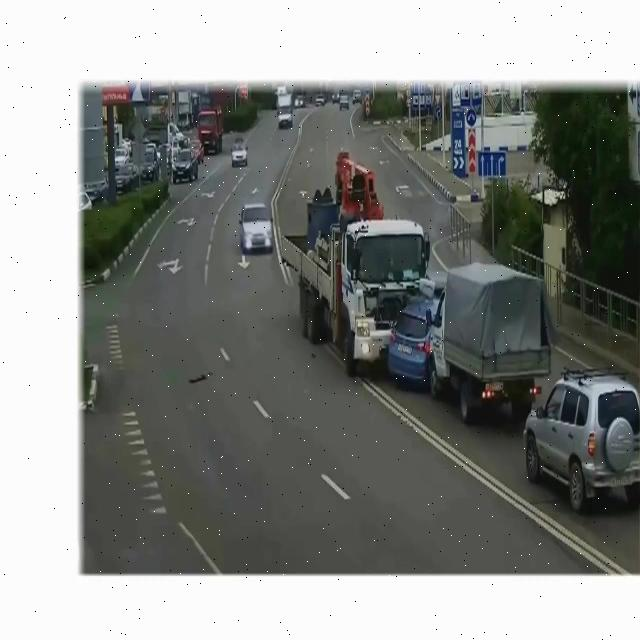severe: (279, 154, 555, 434)
